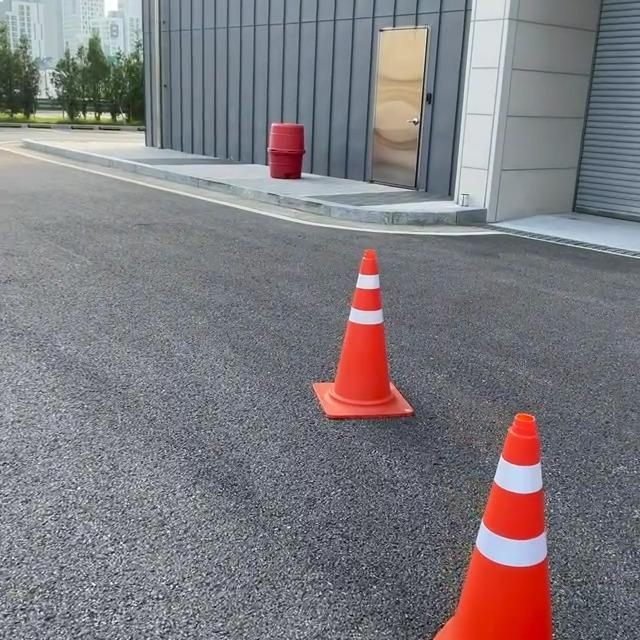fallen_object: (320, 399, 608, 640), (292, 276, 398, 442)
